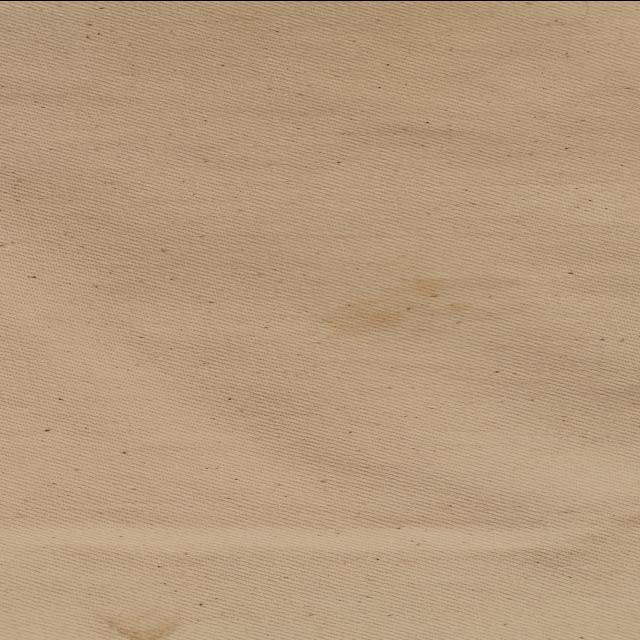taaaches: (327, 298, 401, 337), (86, 612, 186, 640), (413, 278, 443, 294), (438, 300, 468, 314)
